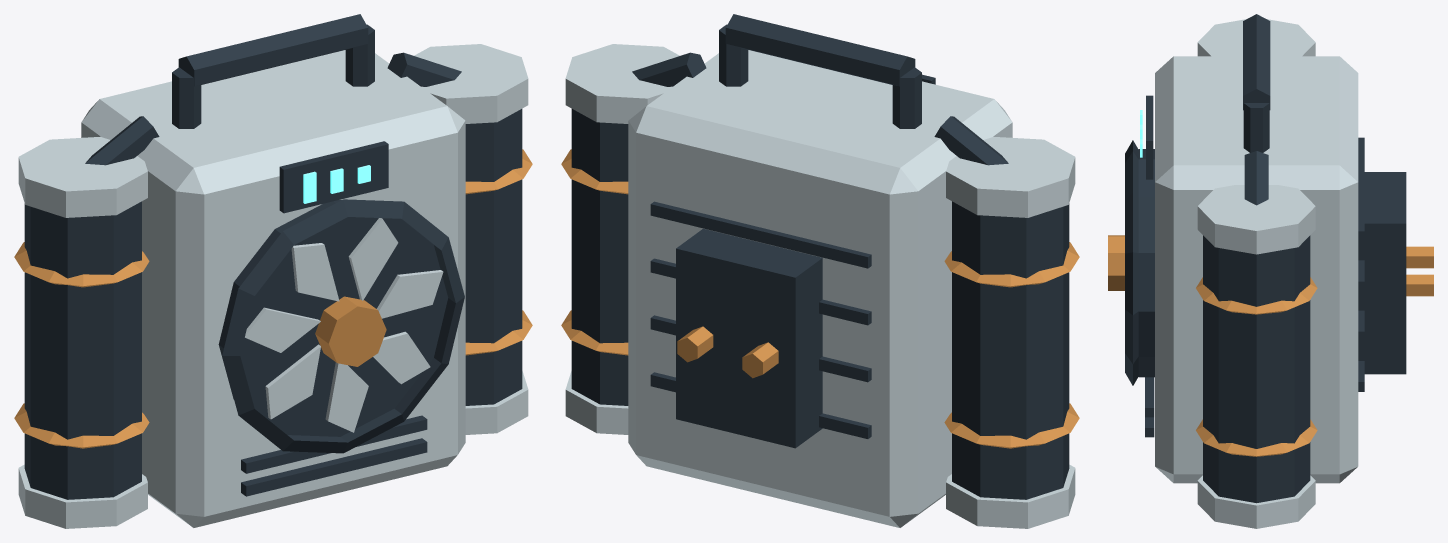
File: atmosphericregulator.fbx
The picture shows the model from 3 angles, left to right: view 1: azimuth 30°, elevation 25°; view 2: azimuth 150°, elevation 25°; view 3: azimuth 270°, elevation 25°; orthographic projection. The views are drawn at different scales.
Parts seen in each view (by area): view 1: Atmospheric Regulator.001; view 2: Atmospheric Regulator.001; view 3: Atmospheric Regulator.001.
Boxes of the visible parts, bbox=[...] form: Atmospheric Regulator.001: bbox=[14, 14, 532, 528]; Atmospheric Regulator.001: bbox=[561, 14, 1079, 528]; Atmospheric Regulator.001: bbox=[1108, 14, 1433, 528].
Bounding box in the file's own units: 276 × 225 × 177.
